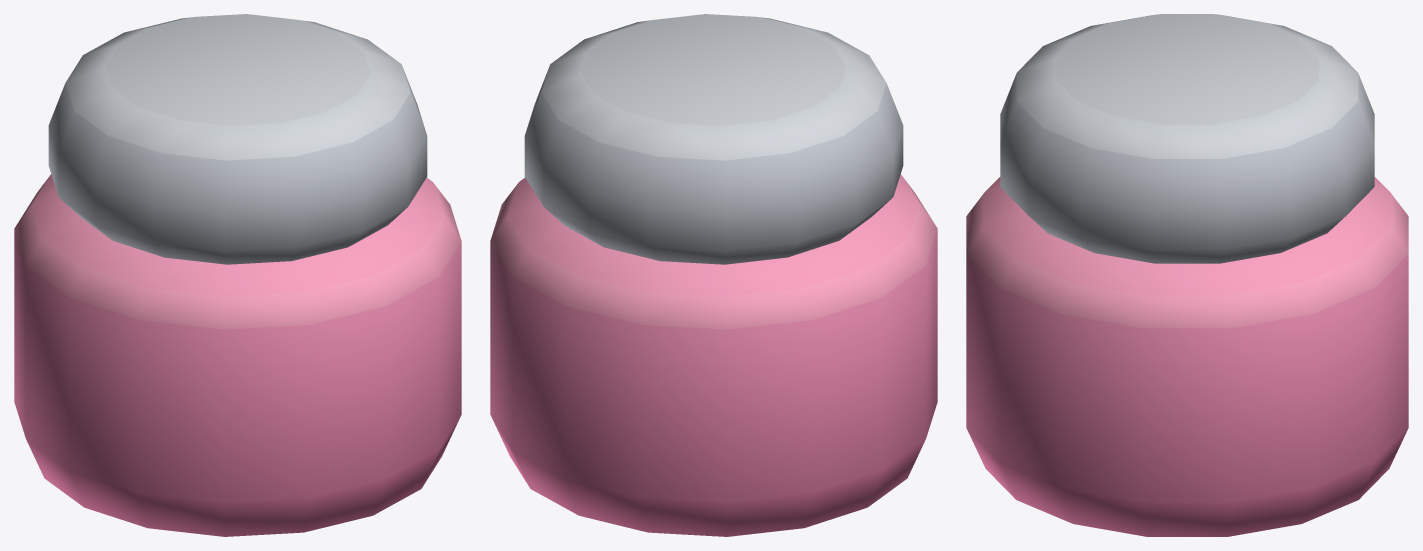
The model's file is Container Bathroom C.glb.
3 views of the same model, side by side, from view 1: azimuth 30°, elevation 25°; view 2: azimuth 150°, elevation 25°; view 3: azimuth 270°, elevation 25° (orthographic).
Visible parts, largest first — view 1: container_bathroom_C_pink; view 2: container_bathroom_C_pink; view 3: container_bathroom_C_pink.
Boxes of the visible parts, x1,y1,x2,y2 form: container_bathroom_C_pink: [14, 14, 461, 536]; container_bathroom_C_pink: [490, 14, 937, 536]; container_bathroom_C_pink: [966, 14, 1408, 536].
Bounding box in the file's own units: 0.312 × 0.3119 × 0.3126.
1 material, 1 textured.
